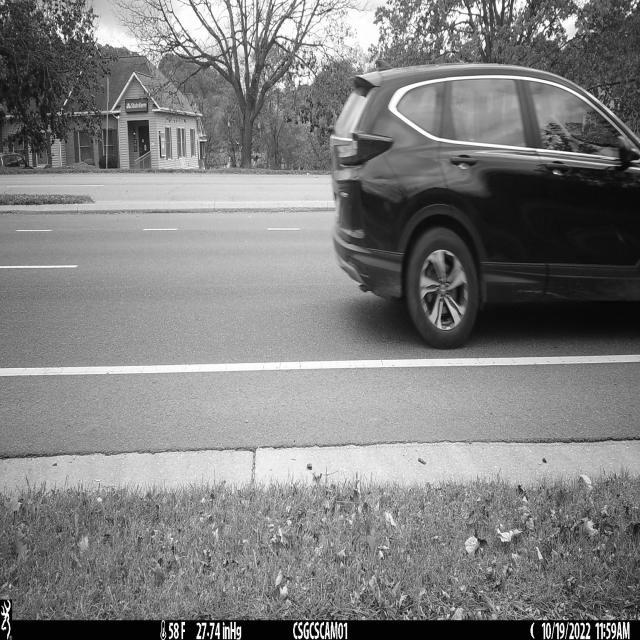SUV: (329, 63, 640, 352)
